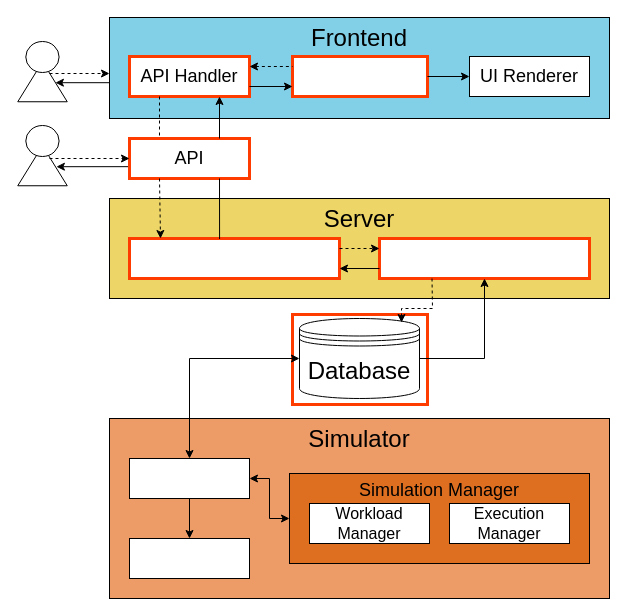
This 627x616 diagram has some shape labels left out. The shapes that lost their labels are listed below. From the top down, each one's centre as x and y in pixels, then its label:
(x=359, y=76): UI Controller
(x=234, y=258): Request Handler
(x=484, y=258): Query Generator
(x=189, y=478): Database Manager
(x=189, y=558): Infrastructure Manager
